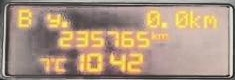-: (59, 20, 67, 27), (159, 21, 167, 28)
0: (84, 52, 102, 72), (145, 9, 160, 27), (174, 9, 188, 27)
1: (77, 52, 84, 71)
2: (126, 52, 143, 72), (57, 30, 72, 47)
3: (73, 30, 88, 47)
4: (109, 52, 126, 71)
5: (88, 30, 103, 47), (135, 30, 149, 47)
6: (119, 30, 134, 47)
7: (105, 30, 119, 47), (38, 57, 48, 70)
X: (16, 7, 32, 28), (187, 9, 200, 28), (46, 12, 60, 27), (201, 14, 216, 28), (54, 57, 66, 71), (156, 32, 168, 40), (150, 31, 156, 40)
